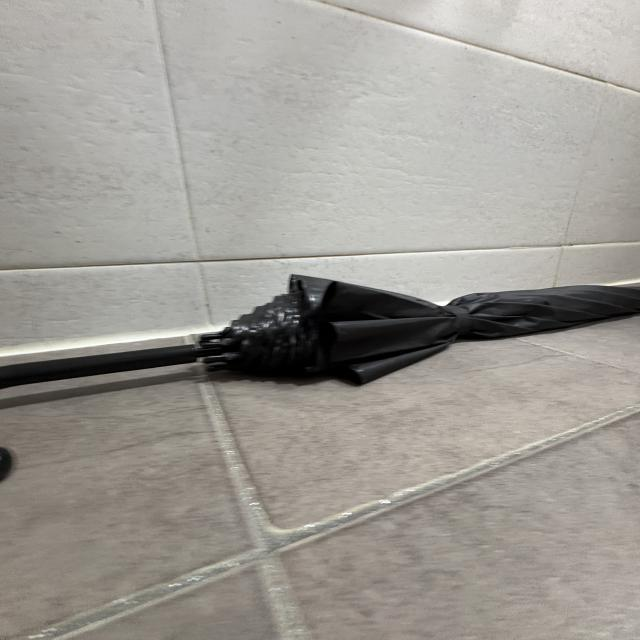umbrella: (0, 273, 640, 478)
